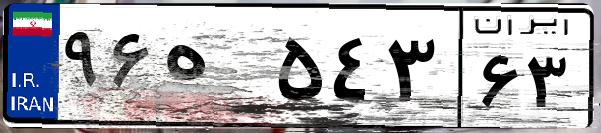3: (385, 28, 445, 110), (525, 38, 570, 115)
4: (330, 28, 385, 110)
5: (270, 28, 330, 110)
6: (475, 38, 525, 113), (110, 28, 158, 98)
9: (57, 26, 110, 100)
ه: (158, 20, 270, 120)
